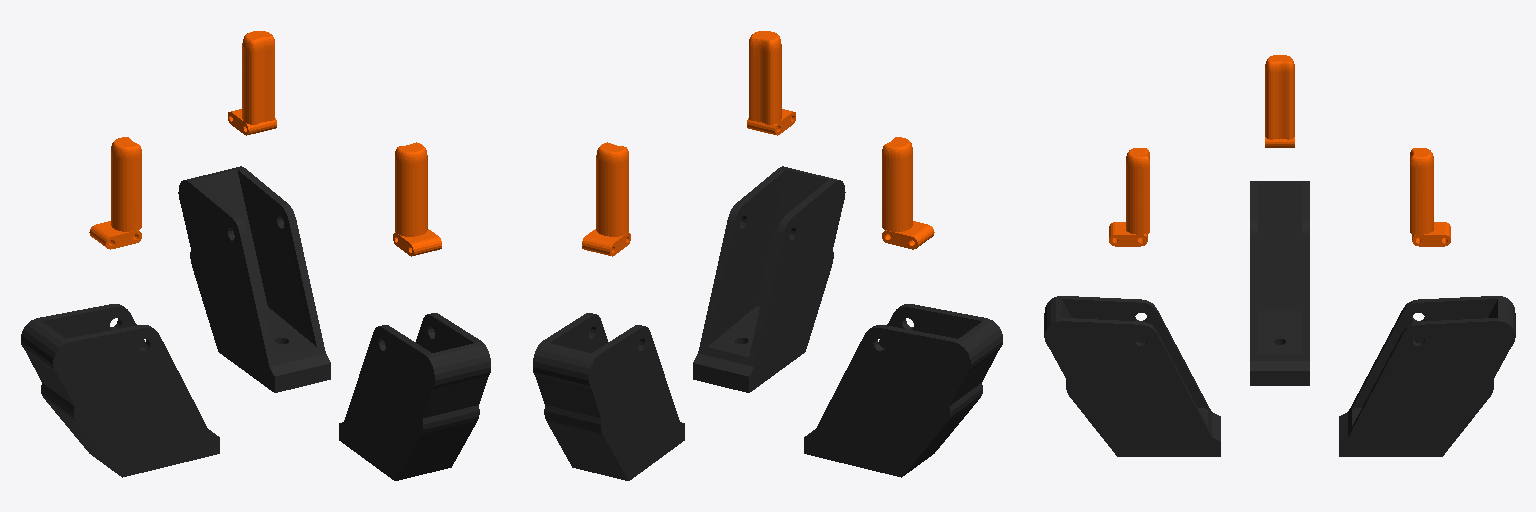
The robot description file, URDF, robot "lbr_iiwa_with_wsg50":
<?xml version="1.0" ?>
<robot name="lbr_iiwa_with_wsg50">

  <!-- Import Rviz colors -->
  <material name="Grey">
    <color rgba="0.2 0.2 0.2 1.0"/>
  </material>
  <material name="Orange">
    <color rgba="1.0 0.423529411765 0.0392156862745 1.0"/>
  </material>
  <material name="Blue">
  <color rgba="0.5 0.7 1.0 1.0"/>
</material>

  <!-- link 0 -->
  <link name="lbr_iiwa_link_0">
  <selfCollide>false</selfCollide>
    <inertial>
      <mass value="0.1"/>
      <origin xyz="-0.1 0 0.07" rpy="0 0 0"/>
      <inertia ixx="0.05" ixy="0" ixz="0" iyy="0.06" iyz="0" izz="0.03"/>
    </inertial>
    <collision name="lbr_iiwa_link_0_collision">
      <origin xyz="0 0 0" rpy="0 0 0"/>
      <geometry>
        <mesh filename="package://meshes//kuka//link_0.stl" scale="1 1 1"/>
      </geometry>
    </collision>
    <visual name="lbr_iiwa_link_0_visual">
      <origin xyz="0 0 0" rpy="0 0 0"/>
      <geometry>
        <mesh filename="package://meshes//kuka//link_0.stl" scale="1 1 1"/>
      </geometry>
      <material name="Grey"/>
    </visual>
  </link>

  <!-- joint between link_0 and link_1 -->
  <joint name="J0" type="revolute">
    <parent link="lbr_iiwa_link_0"/>
    <child link="lbr_iiwa_link_1"/>
    <origin xyz="0 0 0.1575" rpy="0 0 0"/>
    <axis xyz="0 0 1"/>
    <limit lower="-2.96706" upper="2.96706" effort="300.0" velocity="10.0"/>
  </joint>


  <!-- link 1 -->
  <link name="lbr_iiwa_link_1">
  <selfCollide>false</selfCollide>
    <inertial>
      <mass value="4"/>
      <origin xyz="0   -0.03  0.12" rpy="0 0 0"/>
      <inertia ixx="0.1" ixy="0" ixz="0" iyy="0.09" iyz="0" izz="0.02"/>
    </inertial>
    <collision name="lbr_iiwa_link_1_collision">
      <origin xyz="0 0 0" rpy="0 0 0"/>
      <geometry>
        <mesh filename="package://meshes//kuka//link_1.stl" scale="1 1 1"/>
      </geometry>
    </collision>
    <visual name="lbr_iiwa_link_1_visual">
      <origin xyz="0 0 0" rpy="0 0 0"/>
      <geometry>
        <mesh filename="package://meshes//kuka//link_1.stl" scale="1 1 1"/>
      </geometry>
      <material name="Blue"/>
    </visual>
  </link>

  <!-- joint between link_1 and link_2 -->
  <joint name="J1" type="revolute">
    <parent link="lbr_iiwa_link_1"/>
    <child link="lbr_iiwa_link_2"/>
    <origin xyz="0 0 0.2025" rpy="1.5708 0 -3.14159"/>
    <axis xyz="0 0 1"/>
    <limit lower="-2.0944" upper="2.0944" effort="300.0" velocity="10.0"/>
  </joint>

  <!-- link 2 -->
  <link name="lbr_iiwa_link_2">
  <selfCollide>false</selfCollide>
    <inertial>
      <mass value="4"/>
      <origin xyz="0.00029 0.059   0.042" rpy="0 0 0"/>
      <inertia ixx="0.05" ixy="0" ixz="0" iyy="0.018" iyz="0" izz="0.044"/>
    </inertial>
    <collision name="lbr_iiwa_link_2_collision">
      <origin xyz="0 0 0" rpy="0 0 0"/>
      <geometry>
        <mesh filename="package://meshes//kuka//link_2.stl" scale="1 1 1"/>
      </geometry>
    </collision>
    <visual name="lbr_iiwa_link_2_visual">
      <origin xyz="0 0 0" rpy="0 0 0"/>
      <geometry>
        <mesh filename="package://meshes//kuka//link_2.stl" scale="1 1 1"/>
      </geometry>
      <material name="Blue"/>
    </visual>
  </link>

  <!-- joint between link_2 and link_3 -->
  <joint name="J2" type="revolute">
    <parent link="lbr_iiwa_link_2"/>
    <child link="lbr_iiwa_link_3"/>
    <origin xyz="0     0.2045 0" rpy="1.5708 0 -3.14159"/>
    <axis xyz="0 0 1"/>
    <limit lower="-2.96706" upper="2.96706" effort="300.0" velocity="10.0"/>
  </joint>

  <link name="lbr_iiwa_link_3">
  <selfCollide>false</selfCollide>
    <inertial>
      <mass value="3"/>
      <origin xyz="0   0.03 0.13" rpy="0 0 0"/>
      <inertia ixx="0.08" ixy="0" ixz="0" iyy="0.075" iyz="0" izz="0.01"/>
    </inertial>
    <collision name="lbr_iiwa_link_3_collision">
      <origin xyz="0 0 0" rpy="0 0 0"/>
      <geometry>
        <mesh filename="package://meshes//kuka//link_3.stl" scale="1 1 1"/>
      </geometry>
    </collision>
    <visual name="lbr_iiwa_link_3_visual">
      <origin xyz="0 0 0" rpy="0 0 0"/>
      <geometry>
        <mesh filename="package://meshes//kuka//link_3.stl" scale="1 1 1"/>
      </geometry>
      <material name="Orange"/>
    </visual>
  </link>

  <joint name="J3" type="revolute">
    <parent link="lbr_iiwa_link_3"/>
    <child link="lbr_iiwa_link_4"/>
    <origin xyz="0     0     0.2155" rpy="1.5708 0     0"/>
    <axis xyz="0 0 1"/>
    <limit lower="-2.0944" upper="2.0944" effort="300.0" velocity="10.0"/>
  </joint>

  <link name="lbr_iiwa_link_4">
  <selfCollide>false</selfCollide>
    <inertial>
      <mass value="2.7"/>
      <origin xyz="0    0.067 0.034" rpy="0 0 0"/>
      <inertia ixx="0.03" ixy="0" ixz="0" iyy="0.01" iyz="0" izz="0.029"/>
    </inertial>
    <collision name="lbr_iiwa_link_4_collision">
      <origin xyz="0 0 0" rpy="0 0 0"/>
      <geometry>
        <mesh filename="package://meshes//kuka//link_4.stl" scale="1 1 1"/>
      </geometry>
    </collision>
    <visual name="lbr_iiwa_link_4_visual">
      <origin xyz="0 0 0" rpy="0 0 0"/>
      <geometry>
        <mesh filename="package://meshes//kuka//link_4.stl" scale="1 1 1"/>
      </geometry>
      <material name="Blue"/>
    </visual>
  </link>


  <joint name="J4" type="revolute">
    <parent link="lbr_iiwa_link_4"/>
    <child link="lbr_iiwa_link_5"/>
    <origin xyz="0     0.1845 0" rpy="1.5708  0      3.14159"/>
    <axis xyz="0 0 1"/>
    <limit lower="-2.96706" upper="2.96706" effort="300.0" velocity="10.0"/>
  </joint>


  <link name="lbr_iiwa_link_5">
  <selfCollide>false</selfCollide>
    <inertial>
      <mass value="1.7"/>
      <origin xyz="0.0001 0.021  0.076" rpy="0 0 0"/>
      <inertia ixx="0.02" ixy="0" ixz="0" iyy="0.018" iyz="0" izz="0.005"/>
    </inertial>
    <collision name="lbr_iiwa_link_5_collision">
      <origin xyz="0 0 0" rpy="0 0 0"/>
      <geometry>
        <mesh filename="package://meshes//kuka//link_5.stl" scale="1 1 1"/>
      </geometry>
    </collision>
    <visual name="lbr_iiwa_link_5_visual">
      <origin xyz="0 0 0" rpy="0 0 0"/>
      <geometry>
        <mesh filename="package://meshes//kuka//link_5.stl" scale="1 1 1"/>
      </geometry>
      <material name="Blue"/>
    </visual>
  </link>

  <joint name="J5" type="revolute">
    <parent link="lbr_iiwa_link_5"/>
    <child link="lbr_iiwa_link_6"/>
    <origin xyz="0     0     0.2155" rpy="1.5708 0     0"/>
    <axis xyz="0 0 1"/>
    <limit lower="-2.0944" upper="2.0944" effort="300.0" velocity="10.0"/>
  </joint>

  <link name="lbr_iiwa_link_6">
  <selfCollide>false</selfCollide>
    <inertial>
      <mass value="1.8"/>
      <origin xyz="0      0.00059 0.0004" rpy="0 0 0"/>
      <inertia ixx="0.005" ixy="0" ixz="0" iyy="0.0036" iyz="0" izz="0.0047"/>
    </inertial>
    <collision name="lbr_iiwa_link_6_collision">
      <origin xyz="0 0 0" rpy="0 0 0"/>
      <geometry>
        <mesh filename="package://meshes//kuka//link_6.stl" scale="1 1 1"/>
      </geometry>
    </collision>
    <visual name="lbr_iiwa_link_6_visual">
      <origin xyz="0 0 0" rpy="0 0 0"/>
      <geometry>
        <mesh filename="package://meshes//kuka//link_6.stl" scale="1 1 1"/>
      </geometry>
      <material name="Orange"/>
    </visual>
  </link>

  <joint name="J6" type="revolute">
    <parent link="lbr_iiwa_link_6"/>
    <child link="lbr_iiwa_link_7"/>
    <origin xyz="0    0.081 0" rpy="1.5708   0      -3.14159"/>
    <axis xyz="0 0 1"/>
    <limit lower="-3.05433" upper="3.05433" effort="300.0" velocity="10.0"/>
  </joint>

  <link name="lbr_iiwa_link_7">
  <selfCollide>false</selfCollide>
    <inertial>
      <mass value="0.3"/>
      <origin xyz="0   0   0.02" rpy="0 0 0"/>
      <inertia ixx="0.001" ixy="0" ixz="0" iyy="0.001" iyz="0" izz="0.001"/>
    </inertial>
    <collision name="lbr_iiwa_link_7_collision">
      <origin xyz="0 0 0" rpy="0 0 0"/>
      <geometry>
        <mesh filename="package://meshes//kuka//link_7.stl" scale="1 1 1"/>
      </geometry>
    </collision>
    <visual name="lbr_iiwa_link_7_visual">
      <origin xyz="0 0 0" rpy="0 0 0"/>
      <geometry>
        <mesh filename="package://meshes//kuka//link_7.stl" scale="1 1 1"/>
      </geometry>
      <material name="Grey"/>
    </visual>
  </link>

<!-- Palm -->

  <joint name="base_joint" type="fixed">
    <parent link="lbr_iiwa_link_7"/>
    <child link="hand_base_link"/>
    <origin xyz="0 0 0.132936" rpy="0 0 0"/> <!-- 0.044 -->
    <axis xyz="0 0 0"/>
    <limit lower="0" upper="0" effort="0" velocity="0"/>
  </joint>

  <link name="hand_base_link"> </link>

  <!-- pas conforme au setup reel -->
  <!-- xyz="-0.11876 0 0.11935"
       rpy="0 0.93236 0"/>-->
  <!-- setup reel-->
  <joint name="hand_interface_to_base" type="fixed">
    <origin rpy="0 0.0 0" xyz="0 0 0.0"/> <!-- 0.132936 -->
    <parent link="hand_base_link"/>
    <child link="hand_base_hand"/>
    <axis xyz="0 0 0"/>
  </joint>

  <link name="hand_base_hand">
    <selfCollide>false</selfCollide>
    <inertial>
      <origin rpy="0 0 0" xyz="0.00 0.0 -0.04818"/>
      <mass value="2.9623"/>
      <inertia ixx="0.0098688" ixy="0" ixz="-0.00072557" iyy="0.011075" iyz="0" izz="0.015946"/>
    </inertial>
    <visual>
      <origin rpy="0 0 0" xyz="0 0 0"/>
      <geometry>
        <mesh filename="package://visual/paume/base_hand_paume2.STL" />
        <!--  filename="package://cea_robots/meshes/hand/visual/base_link.STL" />-->
      </geometry>
      <material name="Grey"/>
    </visual>
    <collision>
      <origin rpy="0 0 0" xyz="0 0 0"/>
      <geometry>
        <mesh filename="package://collision/paume/base_hand_paume2.STL"/>
        <!-- filename="package://cea_robots/meshes/hand/collision/base_link.STL" />-->
      </geometry>
    </collision>
  </link>

<!-- Finger 1 -->
<!-- Adduction / abduction Joint -->
<!-- Just a reminder joint frame are localized upon the parent joint frame -->
<!-- Then the inertia frame, link frame is localized upon this new joint frame -->
<!-- Same goes for visual and collision frame -->
<!-- rpy = pitch yaw roll ; 
remember that at each rotation we're using the old axes to do it not the new ones -->
  <joint name="base_finger_1" type="revolute">
    <origin rpy="0 -1.5708 -3.1416 " xyz="0.075 0.075 0.09885097"/>
    <parent link="hand_base_hand"/>
    <child link="finger1_B"/>
    <axis xyz="1 0 0"/>
    <dynamics damping="8"/>
    <limit effort="100" lower="-1.5708" upper="0" velocity="3"/>
  </joint>

  <link name="finger1_B">
    <selfCollide>false</selfCollide>
    <inertial>
      <origin rpy="0 0 0" xyz="-0.0465 -0.04775 -0.0"/>
      <mass value="0.519"/>
      <inertia ixx="0.0007" ixy="-0.0002" ixz="0.0" iyy="0.0006" iyz="0.0" izz="0.0011"/>
    </inertial>
    <visual>
      <origin rpy="0 0 0" xyz="0 0 0"/>
      <geometry>
        <mesh filename="package://visual/base_finger/finger.STL" />
      </geometry>
      <material name="Grey"/>
    </visual>
    <collision>
      <origin rpy="0 0 0" xyz="0 0 0"/>
      <geometry>
        <mesh filename="package://collision/base_finger/finger.STL" />
      </geometry>
    </collision>
  </link>

  <joint name="finger1_BP_joint" type="revolute">
    <origin rpy="0 0 0" xyz="0 -0.03255 0"/>
    <parent link="finger1_B"/>
    <child link="finger1_P"/>
    <axis xyz="0 0 1"/>
    <dynamics damping="0.3"/>
    <limit effort="5" lower="-1.3" upper="0.31416" velocity="5"/>  <!-- -0.43633 -->
  </joint>

  <link name="finger1_P">
    <selfCollide>false</selfCollide>
    <inertial>
      <origin rpy="0 0 0" xyz="0.03411 -0.01012 0.0"/>
      <mass value="0.300"/>
      <inertia ixx="0.000092" ixy="-0.000061" ixz="0.0" iyy="0.00031" iyz="0.0" izz="0.00031"/>
      <!--<mass value="0.09833" />
          <inertia
              ixx="0.00003"
              ixy="-0.00002"
              ixz="0.0"
              iyy="0.00010"
              iyz="0.0"
              izz="0.00010" />-->
    </inertial>

    <visual>
      <origin rpy="0 0 0" xyz="0 0 0"/>
      <geometry>
        <mesh filename="package://visual/proximal/proximal_0.09.STL" />
      </geometry>
      <material name="Orange"/>
    </visual>

    <collision>
      <!--<origin rpy="0 0 0" xyz="0.04 -0.01 0"/>
      <geometry>
        <box size="0.090 0.030 0.033"/>
      </geometry>-->

      <origin rpy="0 0 0" xyz="0 0 0"/>
      <geometry>
        <mesh filename="package://collision/proximal/proximal_0.09.STL" />
      </geometry>
    </collision>
  </link>

  <joint name="finger1_PD_joint" type="revolute">
    <origin rpy="0 0 0" xyz="0.08 0 0.0"/>
    <parent link="finger1_P"/>
    <child link="finger1_D"/>
    <axis xyz="0 0 1"/>
    <dynamics damping="0.3"/>
    <limit effort="5" lower="-0.5" upper="1.0472" velocity="5"/>
  </joint>

  <link name="finger1_D">
    <selfCollide>false</selfCollide>
    <inertial>
      <origin rpy="0 0 0" xyz="0.03032 -0.0019 0.0"/>
      <mass value="0.150"/>
      <inertia ixx="0.000025" ixy="0.000013" ixz="0.0" iyy="0.000102" iyz="0.0" izz="0.000108"/>
      <!--<mass value="0.200" />
          <inertia
              ixx="0.000028"
              ixy="0.000014"
              ixz="0.0"
              iyy="0.000113"
              iyz="0.0"
              izz="0.000120" />-->
      <!--<mass value="0.02828" />
          <inertia
              ixx="0.000004"
              ixy="0.000002"
              ixz="0.0"
              iyy="0.000016"
              iyz="0.0"
              izz="0.000017" />-->
    </inertial>
    <visual>
      <origin rpy="0 0 0" xyz="0 0 0"/>
      <geometry>
        <mesh filename="package://visual/distal/distal_2P/distal_0.66.STL" />
      </geometry>
      <material name="Orange"/>
    </visual>
    <collision>
      <!--<origin rpy="0 1.57 0" xyz="0.030 -0.002 0"/>
      <geometry>
        <cylinder length="0.066" radius="0.011"/>
      </geometry>
      -->
      <origin rpy="0 0 0" xyz="0 0 0"/>
      <geometry>
        <mesh filename="package://collision/distal/distal_2P/distal_0.66.STL" />
      </geometry>
    </collision>

    <!--<collision>
      <origin rpy="0 0 0" xyz="0.063 -0.002 0"/>
      <geometry>
        <sphere radius="0.011"/>
      </geometry>
    </collision>-->
  </link>

<!-- FINGER 2 -->
<!-- Adduction / Abduction joint -->
  <joint name="base_finger_2" type="revolute">
    <origin rpy="3.1416 -1.5708 3.1416" xyz="0.075 -0.075 0.09885097"/>
    <parent link="hand_base_hand"/>
    <child link="finger2_B"/>
    <axis xyz="1 0 0"/>
    <dynamics damping="8"/>
    <limit effort="100" lower="0" upper="1.5708" velocity="3"/>
    <mimic joint="hand_abduction1" multiplier="-1" offset="0"/>
  </joint>

  <link name="finger2_B">
    <selfCollide>false</selfCollide>
    <inertial>
      <origin rpy="0 0 0" xyz="-0.0465 -0.04775 -0.0"/>
      <mass value="0.519"/>
      <inertia ixx="0.0007" ixy="-0.0002" ixz="0.0" iyy="0.0006" iyz="0.0" izz="0.0011"/>
    </inertial>
    <visual>
      <origin rpy="0 0 0" xyz="0 0 0"/>
      <geometry>
        <mesh filename="package://visual/base_finger/finger.STL" />
      </geometry>
      <material name="Grey"/>
    </visual>
    <collision>
      <origin rpy="0 0 0" xyz="0 0 0"/>
      <geometry>
        <mesh filename="package://collision/base_finger/finger.STL" />
      </geometry>
    </collision>
  </link>

  <joint name="finger2_BP_joint" type="revolute">
    <origin rpy="0 0 0" xyz="0 -0.03255 0"/>
    <parent link="finger2_B"/>
    <child link="finger2_P"/>
    <axis xyz="0 0 1"/>
    <dynamics damping="0.3"/>
    <limit effort="5" lower="-1.3" upper="0.31416" velocity="5"/>
  </joint>

  <link name="finger2_P">
    <selfCollide>false</selfCollide>
    <inertial>
      <origin rpy="0 0 0" xyz="0.03411 -0.01012 0.0"/>
      <mass value="0.300"/>
      <inertia ixx="0.000092" ixy="-0.000061" ixz="0.0" iyy="0.00031" iyz="0.0" izz="0.00031"/>
      <!--<mass value="0.09833" />
          <inertia
              ixx="0.00003"
              ixy="-0.00002"
              ixz="0.0"
              iyy="0.00010"
              iyz="0.0"
              izz="0.00010" />-->
    </inertial>
    <visual>
      <origin rpy="0 0 0" xyz="0 0 0"/>
      <geometry>
        <mesh filename="package://visual/proximal/proximal_0.09.STL" />
      </geometry>
      <material name="Orange"/>
    </visual>
    <collision>
      <!--<origin rpy="0 0 0" xyz="0.04 -0.01 0"/>
      <geometry>
        <box size="0.090 0.030 0.033"/>
      </geometry>-->

      <origin rpy="0 0 0" xyz="0 0 0"/>
      <geometry>
        <mesh filename="package://collision/proximal/proximal_0.09.STL" />
      </geometry>
    </collision>
  </link>

  <joint name="finger2_PD_joint" type="revolute">
    <origin rpy="0 0 0" xyz="0.08 0 0.0"/>
    <parent link="finger2_P"/>
    <child link="finger2_D"/>
    <axis xyz="0 0 1"/>
    <dynamics damping="0.3"/>
    <limit effort="5" lower="-0.5" upper="1.0472" velocity="5"/>
  </joint>

  <link name="finger2_D">
    <selfCollide>false</selfCollide>
    <inertial>
      <origin rpy="0 0 0" xyz="0.03032 -0.0019 0.0"/>
      <mass value="0.150"/>
      <inertia ixx="0.000025" ixy="0.000013" ixz="0.0" iyy="0.000102" iyz="0.0" izz="0.000108"/>
      <!--<mass value="0.200" />
          <inertia
              ixx="0.000028"
              ixy="0.000014"
              ixz="0.0"
              iyy="0.000113"
              iyz="0.0"
              izz="0.000120" />-->
      <!--<mass value="0.02828" />
          <inertia
              ixx="0.000004"
              ixy="0.000002"
              ixz="0.0"
              iyy="0.000016"
              iyz="0.0"
              izz="0.000017" />-->
    </inertial>
    <visual>
      <origin rpy="0 0 0" xyz="0 0 0"/>
      <geometry>
        <mesh filename="package://visual/distal/distal_2P/distal_0.66.STL" />
      </geometry>
      <material name="Orange"/>
    </visual>
    <collision>
    <!--
      <origin rpy="0 1.57 0" xyz="0.030 -0.002 0"/>
      <geometry>
        <cylinder length="0.066" radius="0.011"/>
      </geometry>-->

      <origin rpy="0 0 0" xyz="0 0 0"/>
      <geometry>
        <mesh filename="package://collision/distal/distal_2P/distal_0.66.STL" />
      </geometry>
    </collision>
    <!--
    <collision>
      <origin rpy="0 0 0" xyz="0.063 -0.002 0"/>
      <geometry>
        <sphere radius="0.011"/>
      </geometry>
    </collision>-->
  </link>


  <!-- FINGER 3 -->

  <joint name="base_finger_3" type="fixed">
    <!-- position pas exactement bonne par rapport a la main reelle a 2-3 mm pres -->
    <origin rpy="-1.5708 -1.5708 0" xyz="-0.0625 0 0.09885097"/>
    <parent link="hand_base_hand"/>
    <child link="finger3_B"/>
    <axis xyz="0 0 0"/>
  </joint>

  <link name="finger3_B">
    <selfCollide>false</selfCollide>
    <inertial>
      <origin rpy="0 0 0" xyz="-0.0465 -0.04775 -0.0"/>
      <mass value="0.519"/>
      <inertia ixx="0.0007" ixy="-0.0002" ixz="0.0" iyy="0.0006" iyz="0.0" izz="0.0011"/>
    </inertial>
    <visual>
      <origin rpy="0 0 0" xyz="0 0 0"/>
      <geometry>
        <mesh filename="package://visual/base_finger/finger.STL" />
      </geometry>
      <material name="Grey"/>
    </visual>
    <collision>
      <origin rpy="0 0 0" xyz="0 0 0"/>
      <geometry>
        <mesh filename="package://collision/base_finger/finger.STL" />
      </geometry>
    </collision>
  </link>


  <joint name="finger3_BP_joint" type="revolute">
    <origin rpy="0 0 0" xyz="0 -0.03255 0"/>
    <parent link="finger3_B"/>
    <child link="finger3_P"/>
    <axis xyz="0 0 1"/>
    <dynamics damping="0.3"/>
    <limit effort="5" lower="-1.3" upper="0.31416" velocity="5"/>
  </joint>

  <link name="finger3_P">
    <selfCollide>false</selfCollide>
    <inertial>
      <origin rpy="0 0 0" xyz="0.03411 -0.01012 0.0"/>
      <mass value="0.300"/>
      <inertia ixx="0.000092" ixy="-0.000061" ixz="0.0" iyy="0.00031" iyz="0.0" izz="0.00031"/>
      <!--<mass
                        value="0.09833" />
                    <inertia
                        ixx="0.00003"
                        ixy="-0.00002"
                        ixz="0.0"
                        iyy="0.00010"
                        iyz="0.0"
                        izz="0.00010" />-->
    </inertial>
    <visual>
      <origin rpy="0 0 0" xyz="0 0 0"/>
      <geometry>
        <mesh filename="package://visual/proximal/proximal_0.09.STL" />
      </geometry>
      <material name="Orange"/>
    </visual>

    <collision>

      <!--<origin rpy="0 0 0" xyz="0.04 -0.01 0"/>
      <geometry>
        <box size="0.090 0.030 0.033"/>
      </geometry>-->

      <origin rpy="0 0 0" xyz="0 0 0"/>
      <geometry>
        <mesh filename="package://collision/proximal/proximal_0.09.STL" />
      </geometry>

    </collision>
  </link>

  <joint name="finger3_PD_joint" type="revolute">
    <origin rpy="0 0 0" xyz="0.08 0 0.0"/>
    <parent link="finger3_P"/>
    <child link="finger3_D"/>
    <axis xyz="0 0 1"/>
    <dynamics damping="0.3"/>
    <limit effort="5" lower="-0.5" upper="1.0472" velocity="5"/>
  </joint>

  <link name="finger3_D">
    <selfCollide>false</selfCollide>
    <inertial>
      <origin rpy="0 0 0" xyz="0.03032 -0.0019 0.0"/>
      <mass value="0.150"/>
      <inertia ixx="0.000025" ixy="0.000013" ixz="0.0" iyy="0.000102" iyz="0.0" izz="0.000108"/>
      <!--<mass value="0.200" />
          <inertia
              ixx="0.000028"
              ixy="0.000014"
              ixz="0.0"
              iyy="0.000113"
              iyz="0.0"
              izz="0.000120" /> -->
      <!--<mass value="0.02828" />
          <inertia
            ixx="0.000004"
            ixy="0.000002"
            ixz="0.0"
            iyy="0.000016"
            iyz="0.0"
            izz="0.000017" /> -->
    </inertial>
    <visual>
      <origin rpy="0 0 0" xyz="0 0 0"/>
      <geometry>
        <mesh filename="package://visual/distal/distal_2P/distal_0.66.STL" />
      </geometry>
      <material name="Orange"/>
    </visual>
    <collision>
      <!-- 
      <origin rpy="0 1.57 0" xyz="0.030 -0.002 0"/> 
      <geometry>
      <cylinder length="0.066" radius="0.011"/> 
      </geometry>
      -->

      <origin rpy="0 0 0" xyz="0.0 0.0 0"/>
      <geometry>
        <mesh filename="package://collision/distal/distal_2P/distal_0.66.STL" />
      </geometry>
    </collision>

    <!--<collision>
      <origin rpy="0 0 0" xyz="0.063 -0.002 0"/>
      <geometry>
        <sphere radius="0.011"/>
      </geometry>
    </collision>-->
  </link>

  <joint name="hand_base_to_case" type="fixed">
    <origin rpy="0 0 0" xyz="0 0 0.013"/>
    <parent link="hand_base_hand"/>
    <child link="hand_case"/>
    <axis xyz="0 0 0"/>
  </joint>

  <link name="hand_case">
    <selfCollide>false</selfCollide>
    <visual>
      <origin rpy="0 0 0" xyz="0 0 0"/>
      <geometry>
        <mesh filename="package://visual/case/case_3d.STL"/>
      </geometry>
      <material name="Grey"/>
    </visual>
    <collision>
      <origin rpy="0 0 0" xyz="0 0 0"/>
      <geometry>
        <mesh filename="package://collision/case/case_3d.STL"/>
      </geometry>
    </collision>
  </link>

  <joint name="hand_case_to_grasp_center" type="fixed">
    <origin rpy="0 0 0" xyz="0 0 0.15"/>
    <parent link="hand_base_hand"/>
    <child link="hand_grasp_center"/>
    <axis xyz="0 0 0"/>
  </joint>

  <link name="hand_grasp_center"> </link>

</robot>

--- Render facts (derived) ---
3 views of the same robot in one strip: view 1: azimuth 30°, elevation 25°; view 2: azimuth 150°, elevation 25°; view 3: azimuth 270°, elevation 25° (orthographic).
Model lbr_iiwa_with_wsg50 with 21 links and 20 joints (15 revolute, 5 fixed), rooted at lbr_iiwa_link_0, posed every joint at zero.
Links seen in each view (by area): view 1: finger1_B, finger3_B, finger2_B, finger2_D, finger3_D, finger1_D; view 2: finger2_B, finger3_B, finger1_B, finger1_D, finger3_D, finger2_D; view 3: finger1_B, finger2_B, finger3_B, finger3_D, finger1_D, finger2_D.
Boxes of the visible links, x1,y1,x2,y2 form: finger1_B: [178, 166, 330, 392]; finger3_B: [21, 304, 219, 477]; finger2_B: [339, 313, 490, 480]; finger2_D: [393, 142, 441, 256]; finger3_D: [89, 137, 141, 249]; finger1_D: [228, 31, 276, 135]; finger2_B: [693, 166, 845, 392]; finger3_B: [804, 304, 1002, 477]; finger1_B: [533, 313, 684, 480]; finger1_D: [582, 142, 630, 256]; finger3_D: [882, 137, 934, 249]; finger2_D: [747, 31, 795, 135]; finger1_B: [1339, 296, 1515, 456]; finger2_B: [1044, 296, 1220, 456]; finger3_B: [1250, 181, 1309, 385]; finger3_D: [1265, 55, 1294, 147]; finger1_D: [1410, 148, 1450, 246]; finger2_D: [1109, 148, 1149, 246].
Size in the robot's own frame: 0.2683 by 0.3651 by 0.25 metres.
6 mesh visuals loaded from 13 distinct referenced files (2 binary STL); not drawn: 13 (reference not matched to a file when rendering).